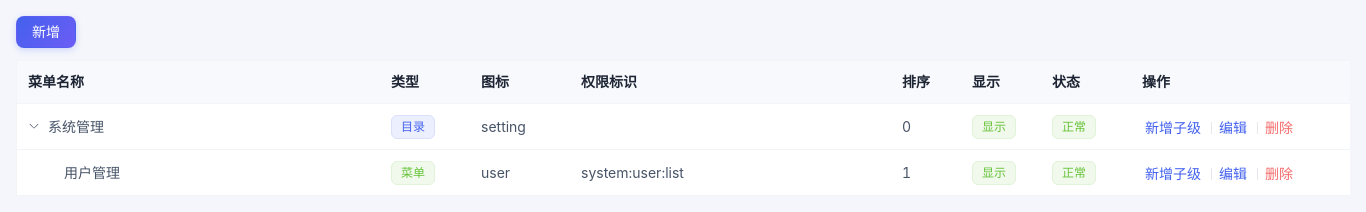
Scenario: 菜单管理页 › 删除 409 → 提示存在子菜单
This screenshot has width=1366, height=212.
Click the button "删除" in the row of "系统管理" at (1279,128), box [1262,118,1296,138]
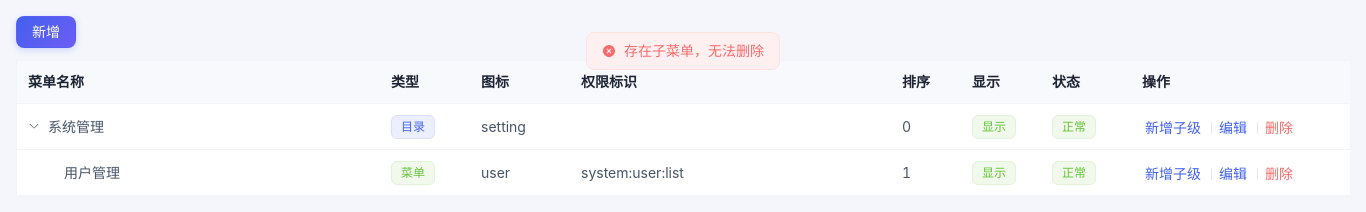
Expected: the text "存在子菜单，无法删除" is shown, [624,44,764,58]
